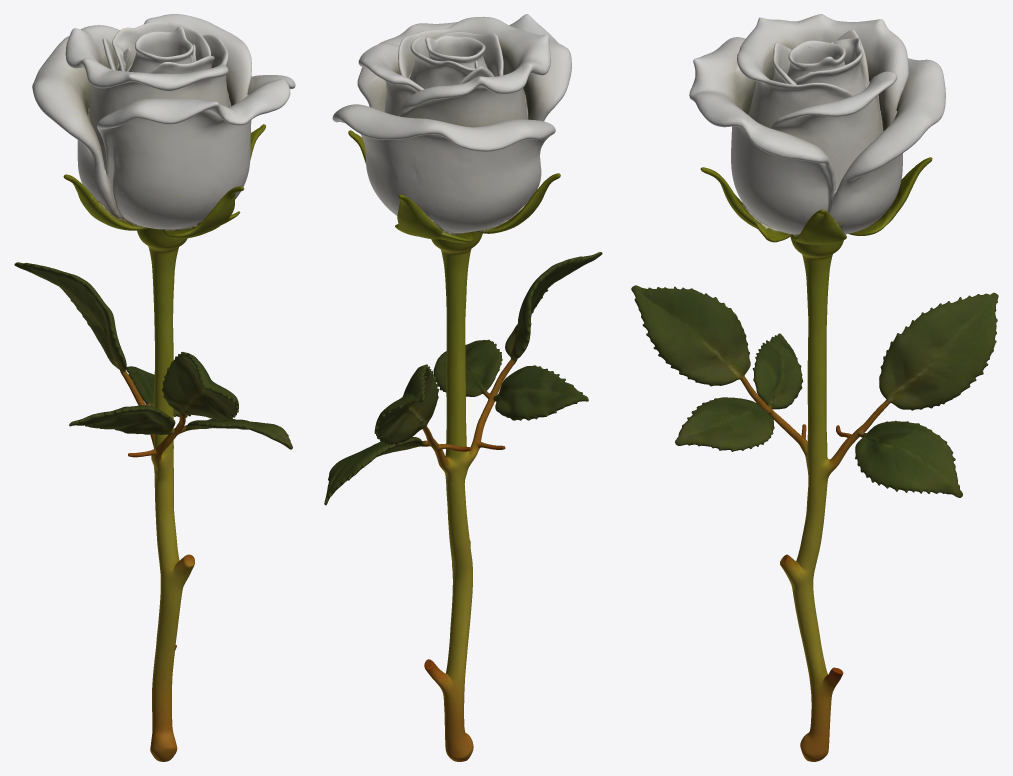
Rendered from white+rose+3d+model (5).glb.
The picture shows the model from 3 angles, left to right: view 1: azimuth 30°, elevation 25°; view 2: azimuth 150°, elevation 25°; view 3: azimuth 270°, elevation 25°; orthographic projection.
Parts seen in each view (by area): view 1: tripo_node_ac790af2-4644-4b4d-b1a4-f4aa8c61b6e9; view 2: tripo_node_ac790af2-4644-4b4d-b1a4-f4aa8c61b6e9; view 3: tripo_node_ac790af2-4644-4b4d-b1a4-f4aa8c61b6e9.
Part boxes in pixels (bbox=[...]): tripo_node_ac790af2-4644-4b4d-b1a4-f4aa8c61b6e9: bbox=[14, 14, 295, 761]; tripo_node_ac790af2-4644-4b4d-b1a4-f4aa8c61b6e9: bbox=[324, 14, 602, 761]; tripo_node_ac790af2-4644-4b4d-b1a4-f4aa8c61b6e9: bbox=[631, 14, 998, 761].
Bounding box in the file's own units: 0.3192 × 1 × 0.4655.
1 material, 1 textured.
